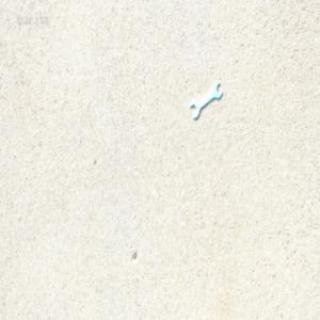Wrenchtrack_idkeyframe: (190, 82, 221, 119)
